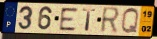3: (17, 5, 35, 32)
6: (37, 6, 53, 32)
E: (58, 7, 79, 32)
Q: (120, 8, 140, 36)
R: (99, 6, 122, 35)
T: (81, 8, 97, 33)
